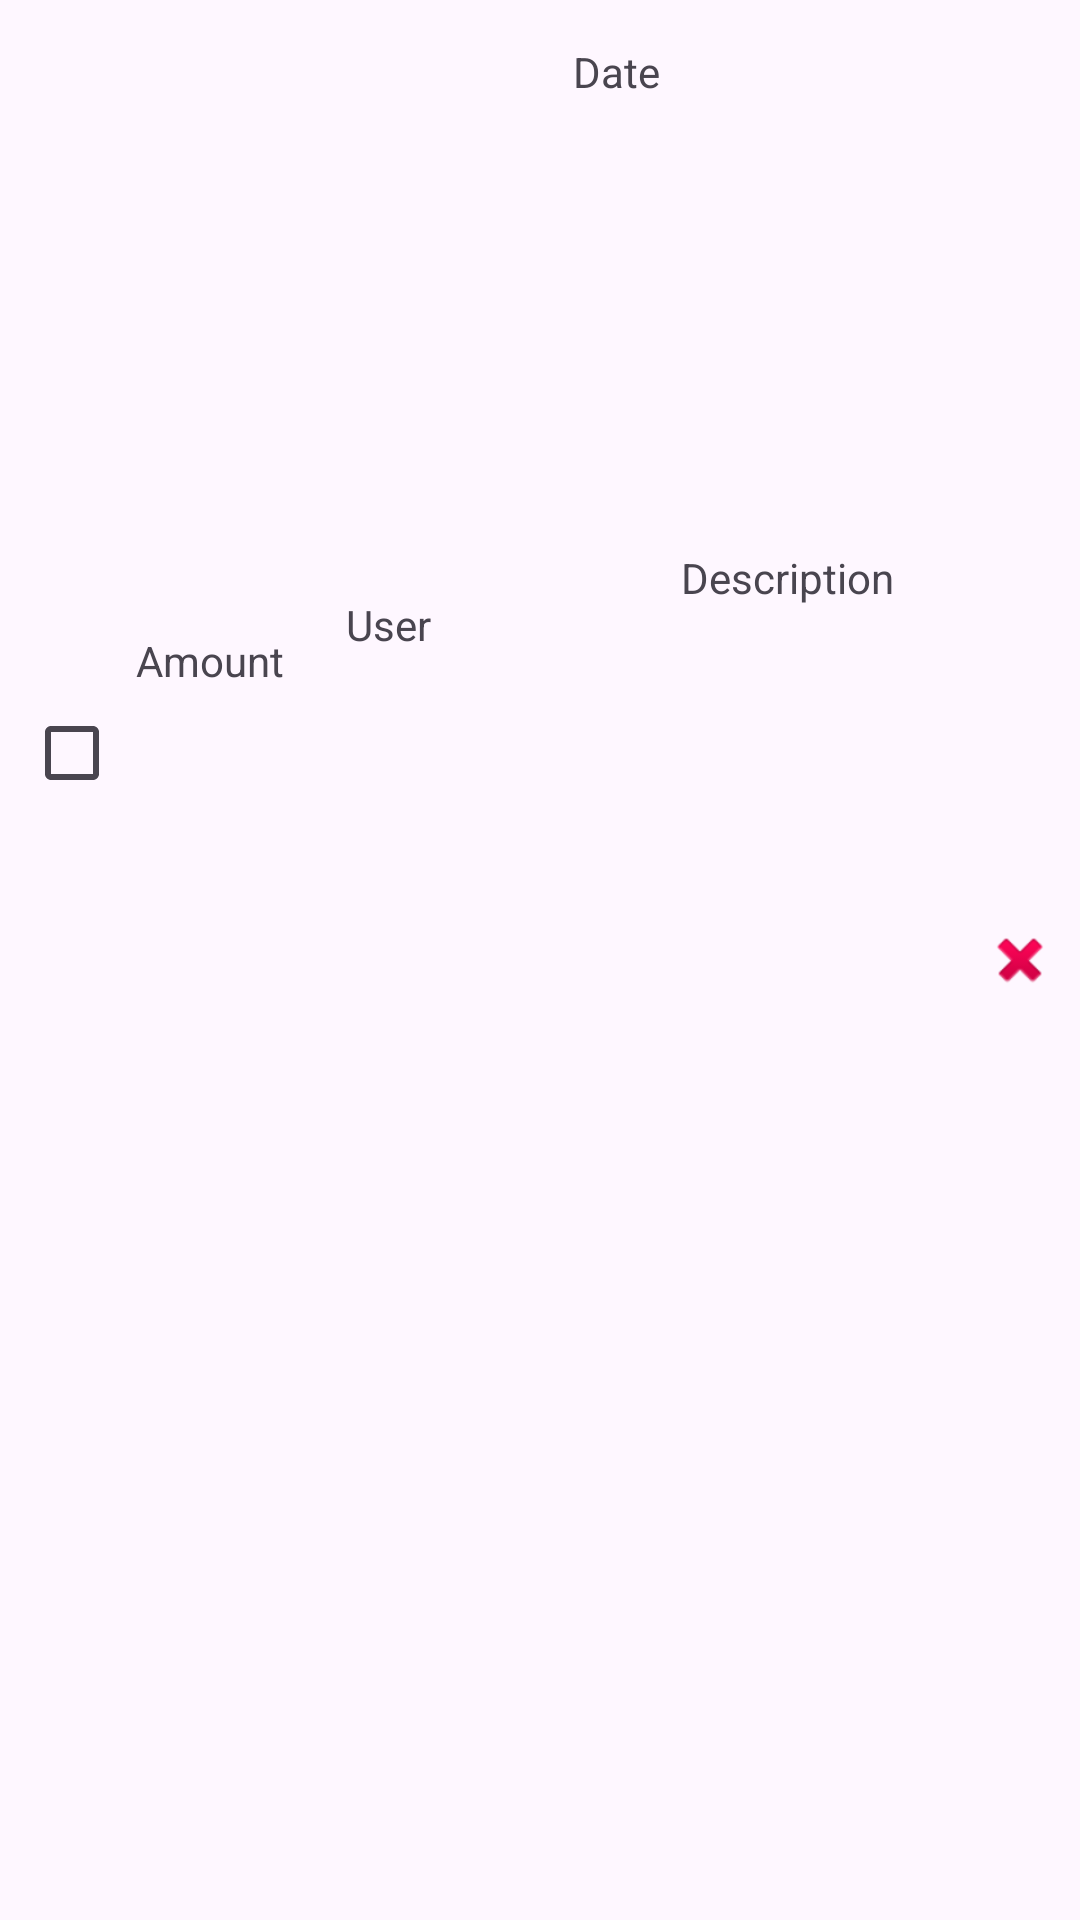

Point at icon controls on the screen. Image size 1080 × 1920, points as (x,y).
delete: (1020,960)
